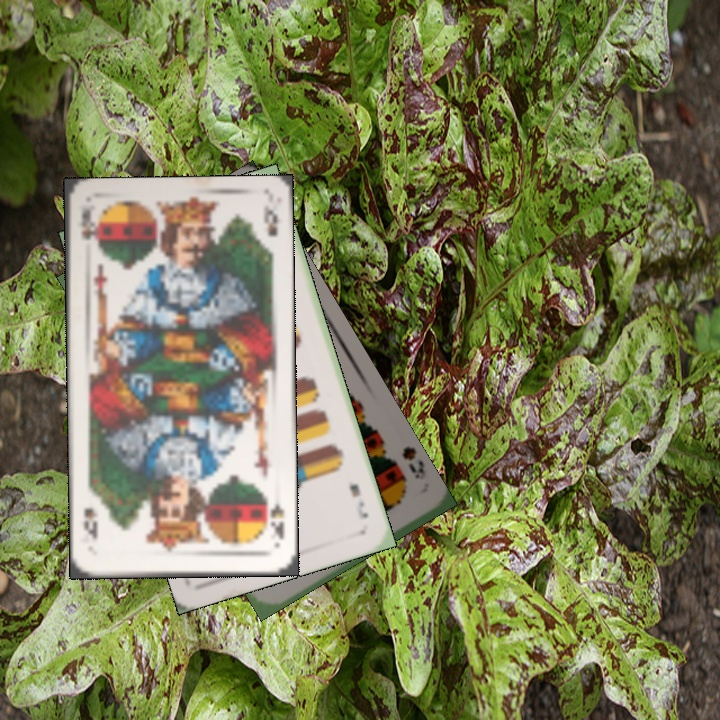E7: (345, 479, 371, 521)
S8: (397, 442, 429, 483)
SK: (262, 492, 287, 549), (77, 204, 99, 243)
